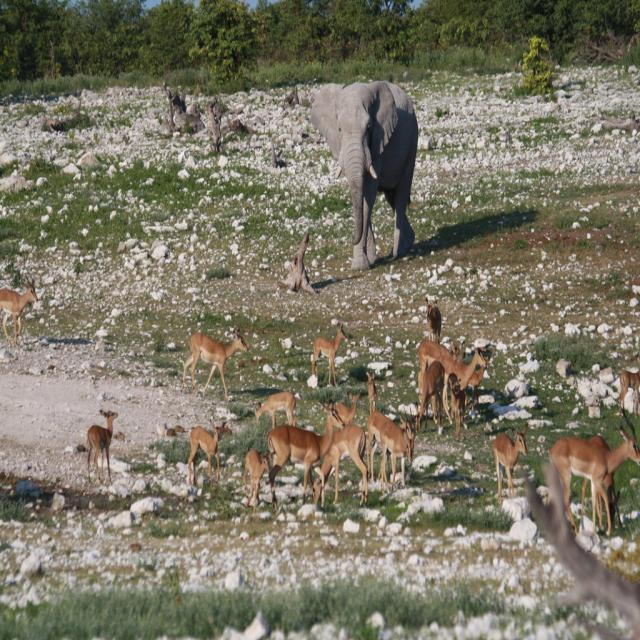Elephant: (303, 68, 426, 270)
